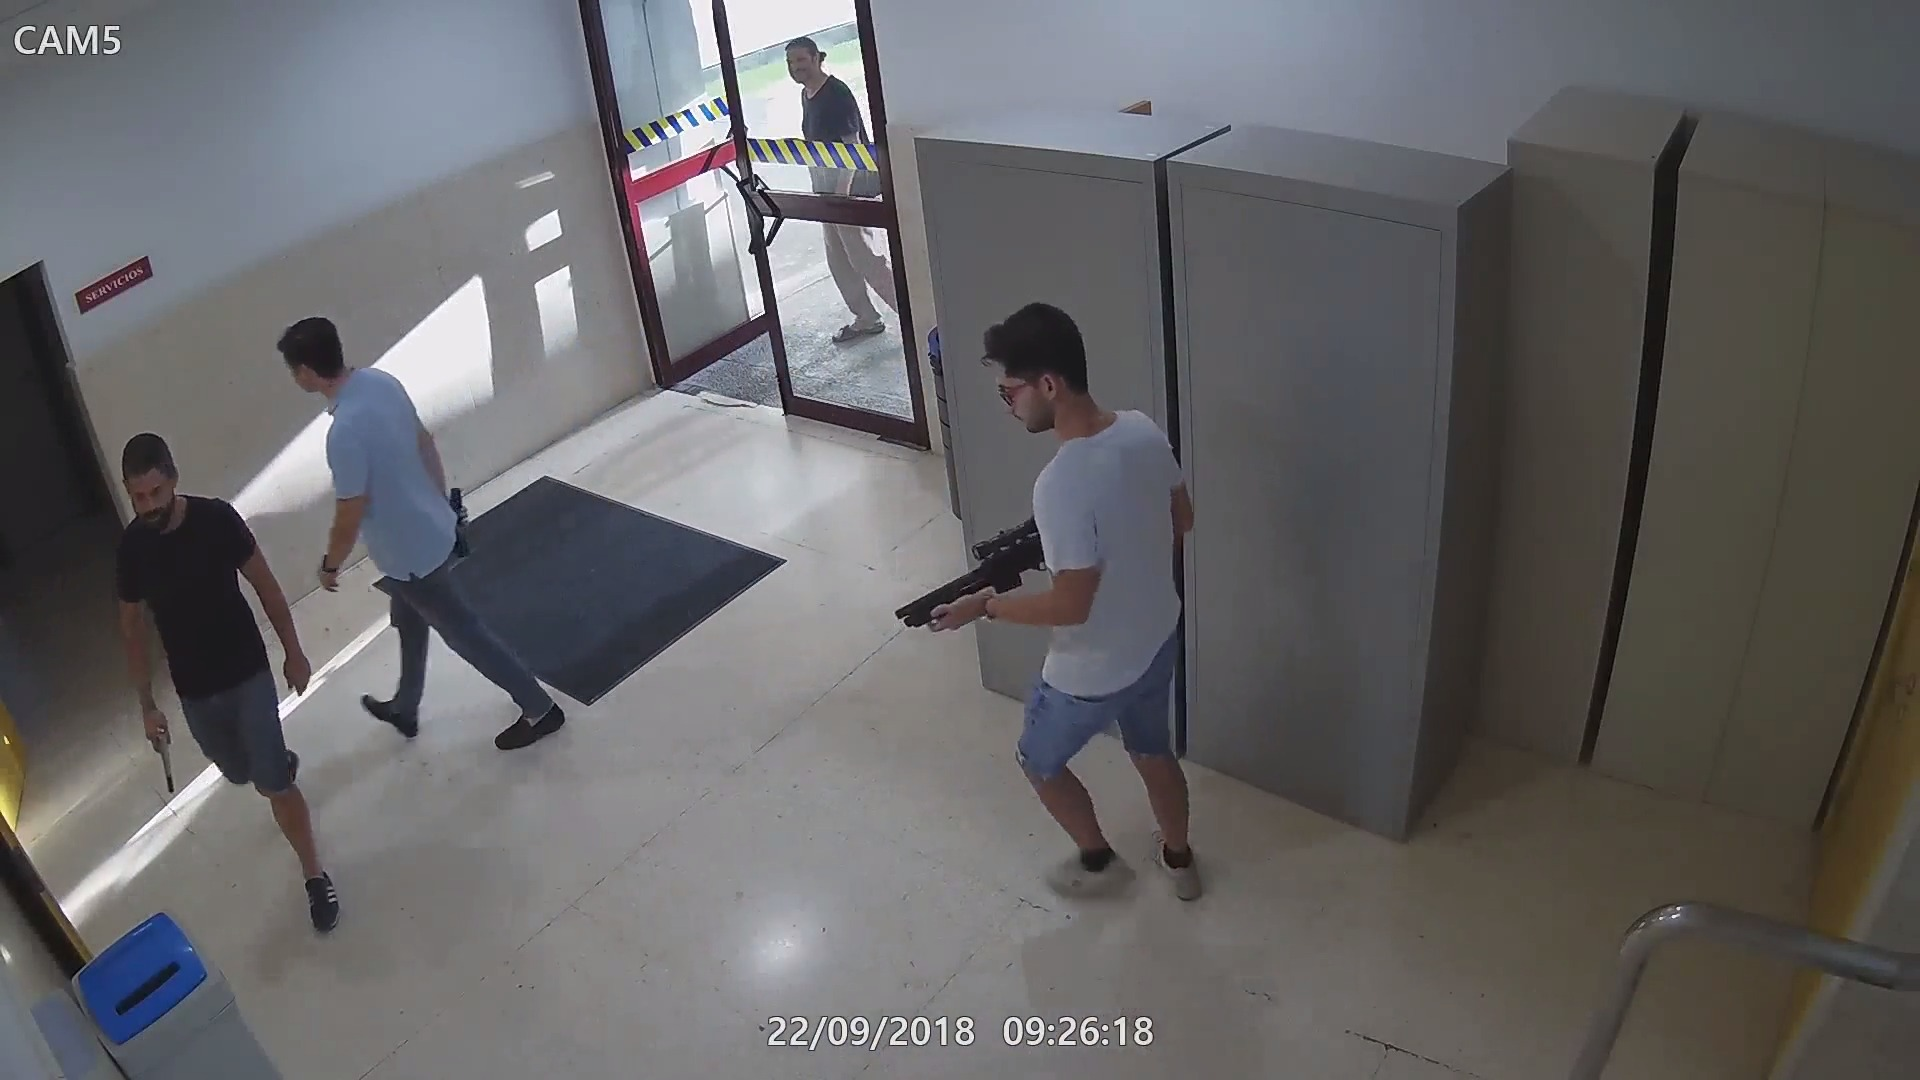Handgun: (144, 709, 181, 811)
Short_rifle: (891, 516, 1051, 632)
